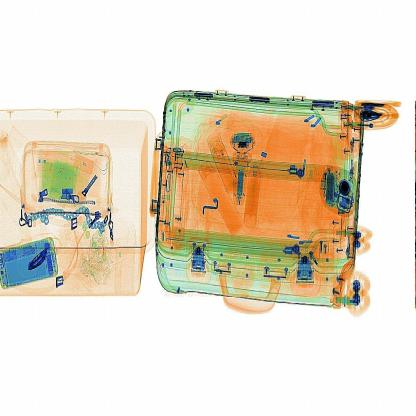knife: (19, 236, 54, 276)
